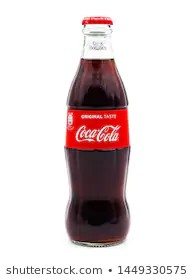coke-glass-bottle: (63, 13, 135, 248)
